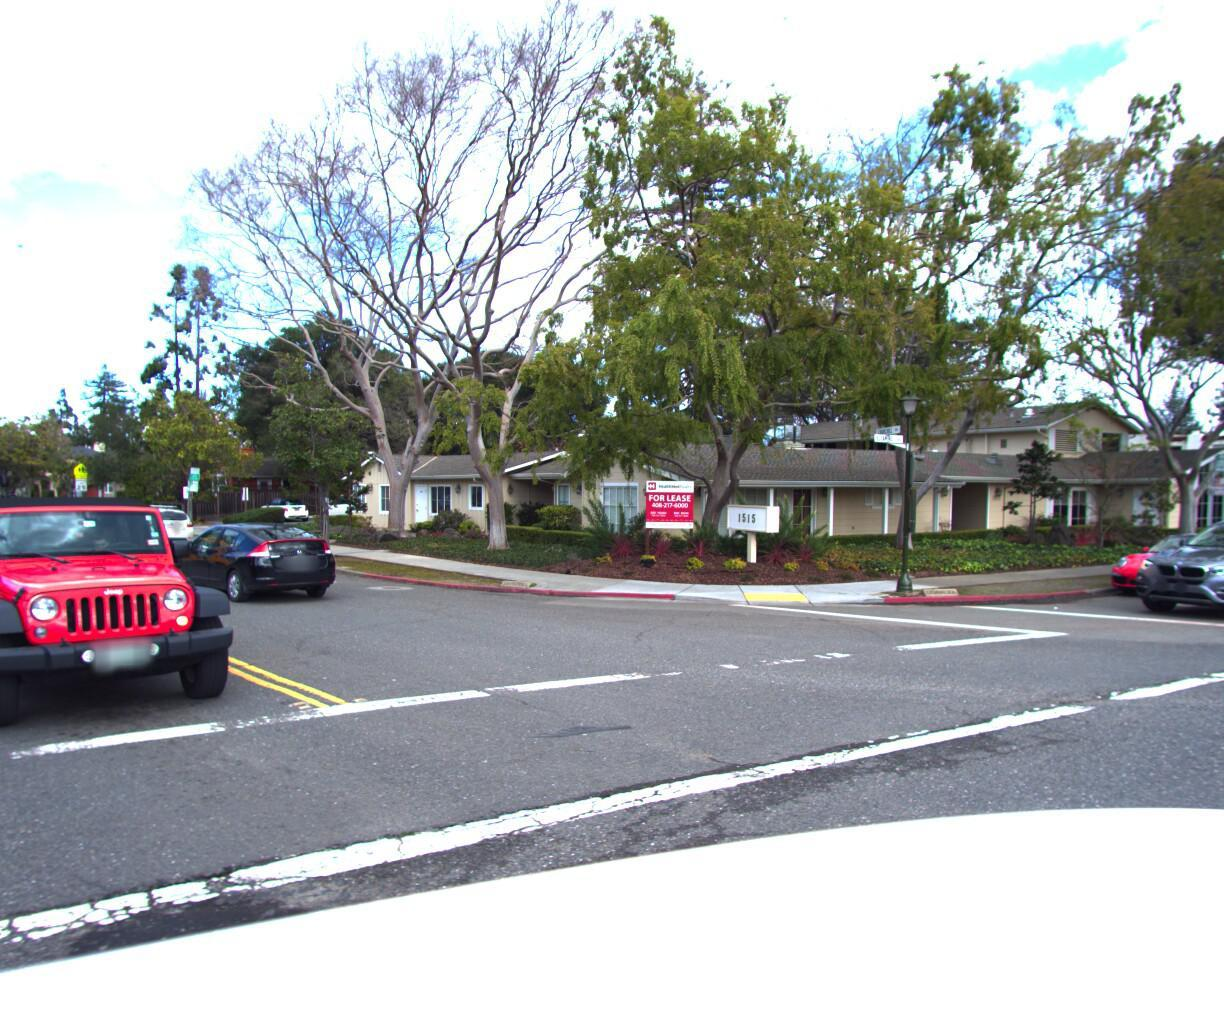bus: (0, 439, 20, 599)
car: (0, 492, 247, 777), (151, 514, 347, 613), (0, 522, 119, 644), (1118, 515, 1224, 635), (1096, 530, 1224, 613), (117, 505, 204, 556), (317, 492, 394, 527), (252, 499, 314, 525), (15, 498, 60, 524)
